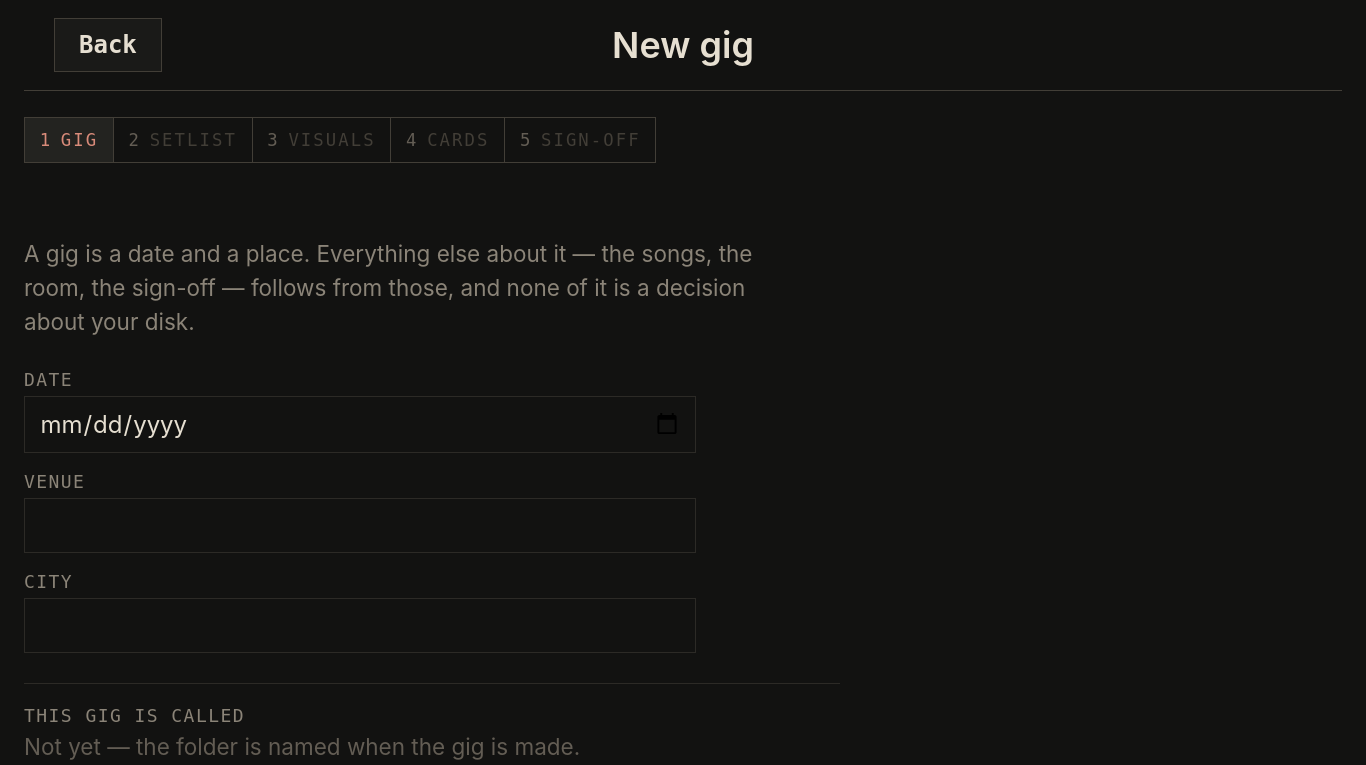
Test case: screen 1: the gig › says a refusal instead of pretending a gig was made
Type "2026-05-16" into the date field with test id "gig-flow-date". click: (360, 424)
box: [24,396,696,453]
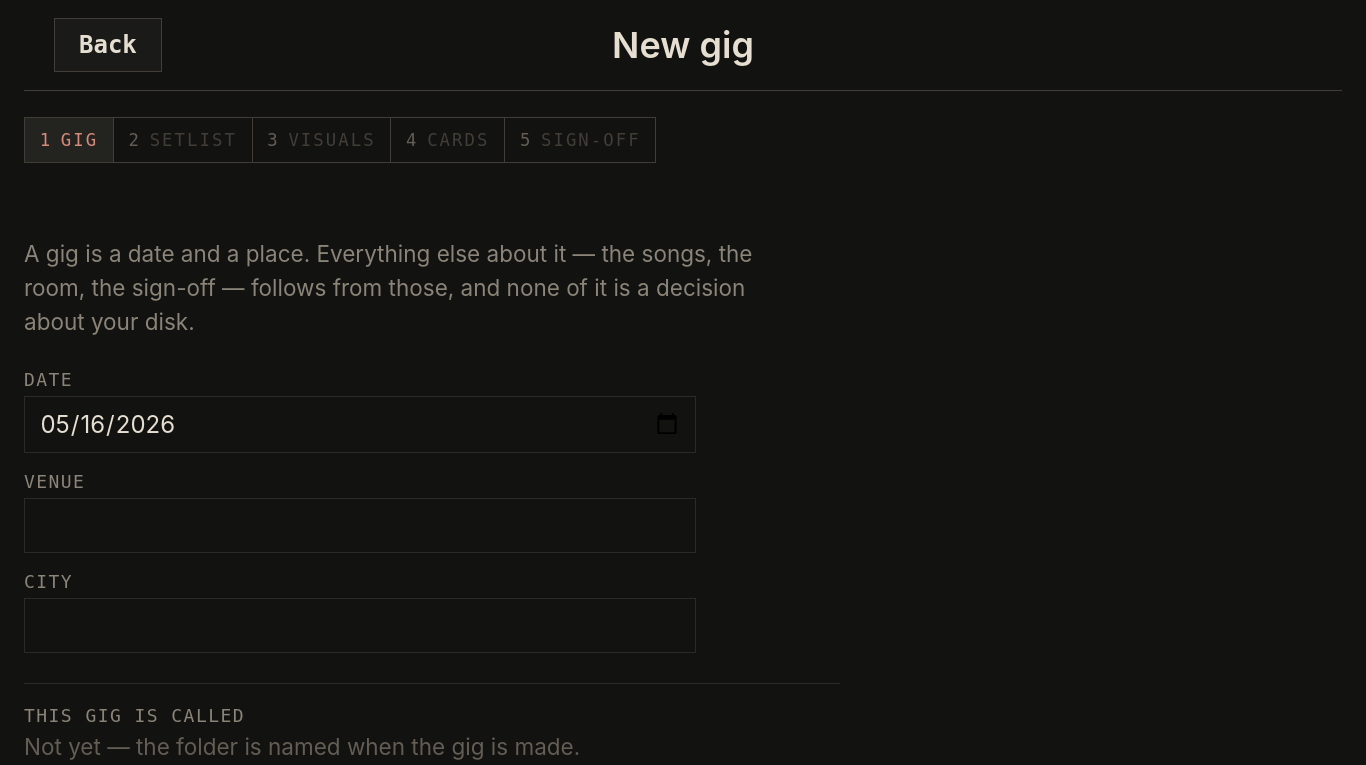
Type "BOM Festival" into the field with test id "gig-flow-venue". click: (360, 525)
box: [24,498,696,553]
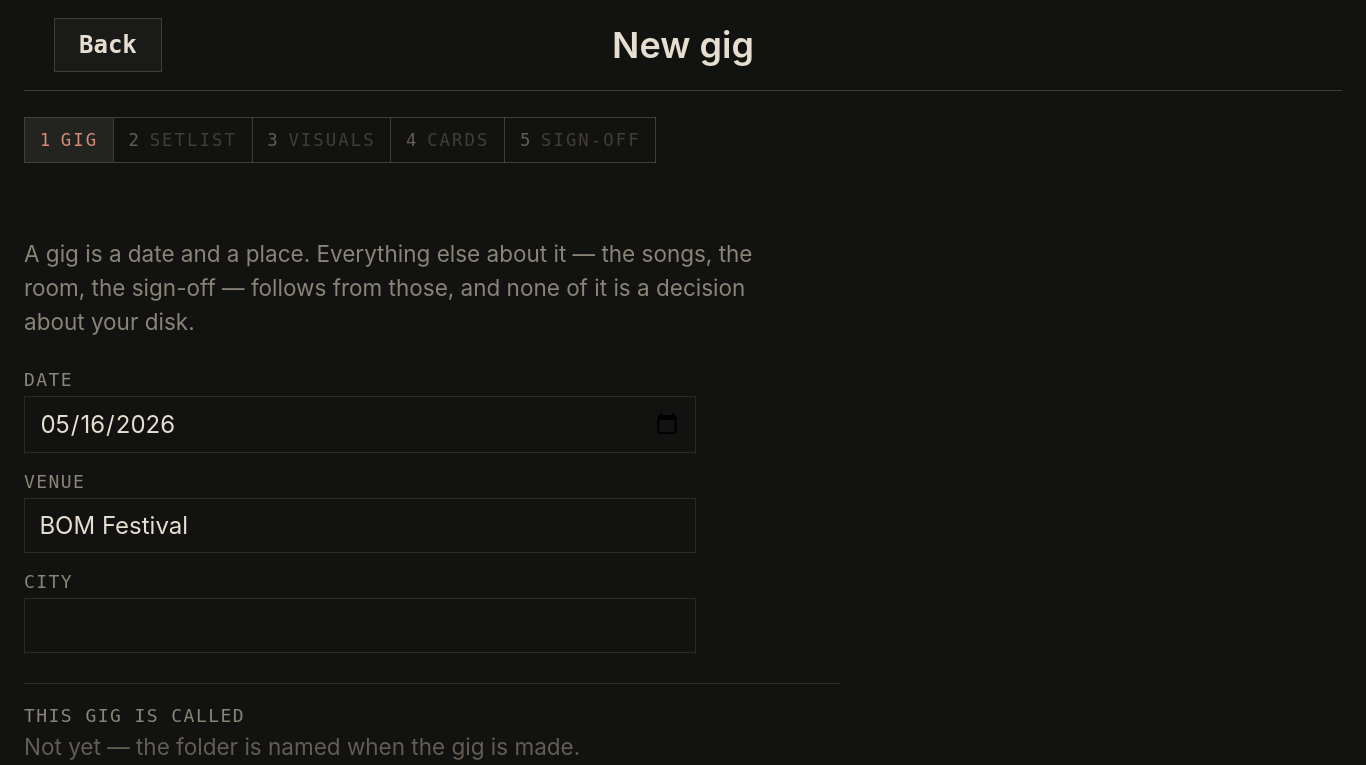
Type "Brussels" into the field with test id "gig-flow-city". click: (360, 625)
box: [24,598,696,653]
(page scrolled)
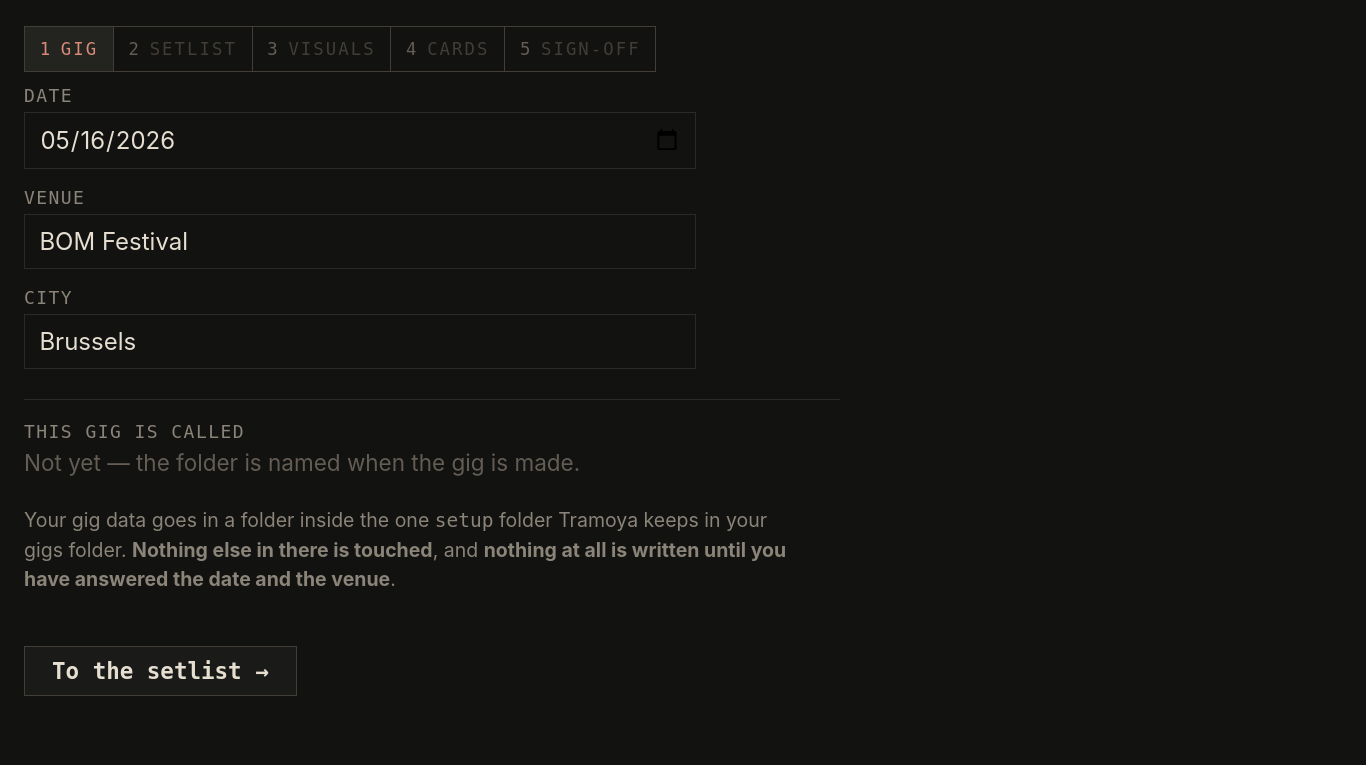
Click the button with test id "gig-flow-commit". click: (160, 671)
box: [24,646,297,696]
(page scrolled)
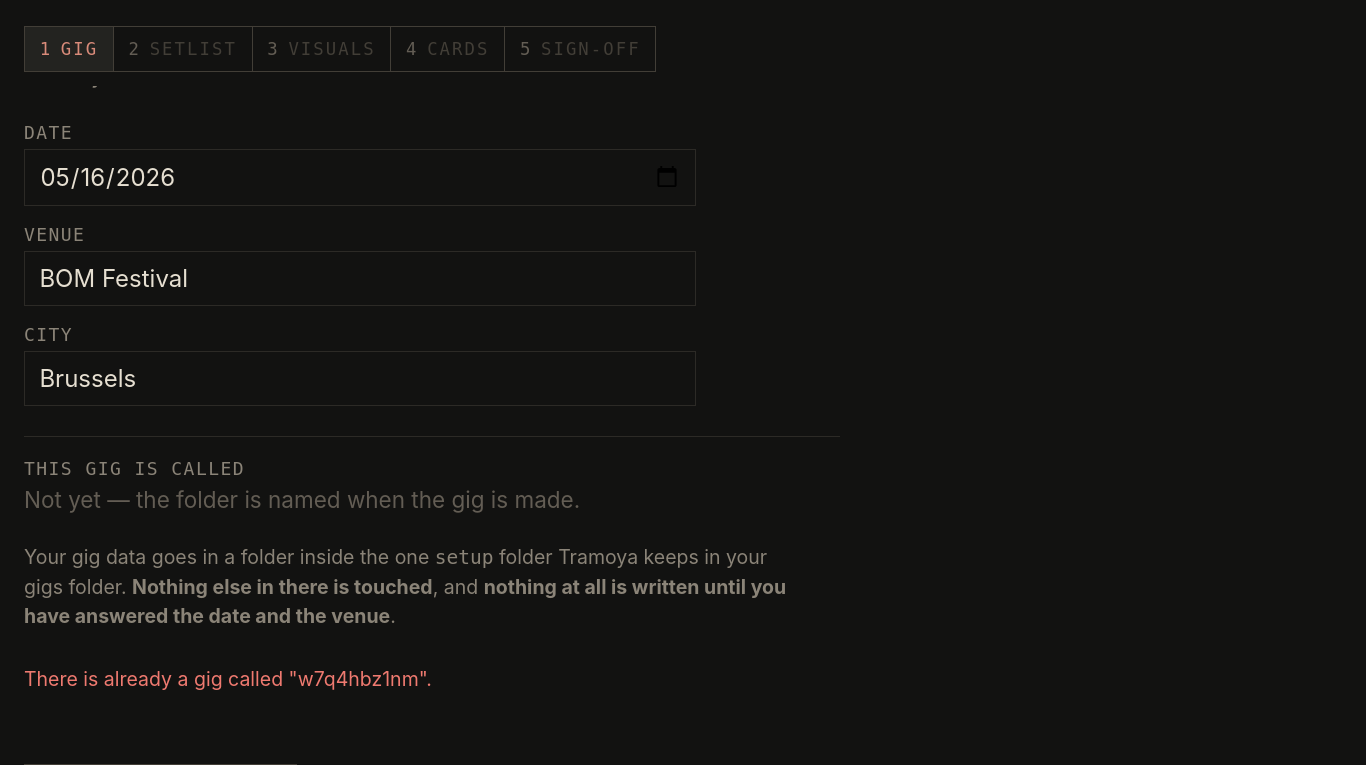
Expected: the text with test id "gig-flow-problem" shows "already a gig", [24,667,432,691]
